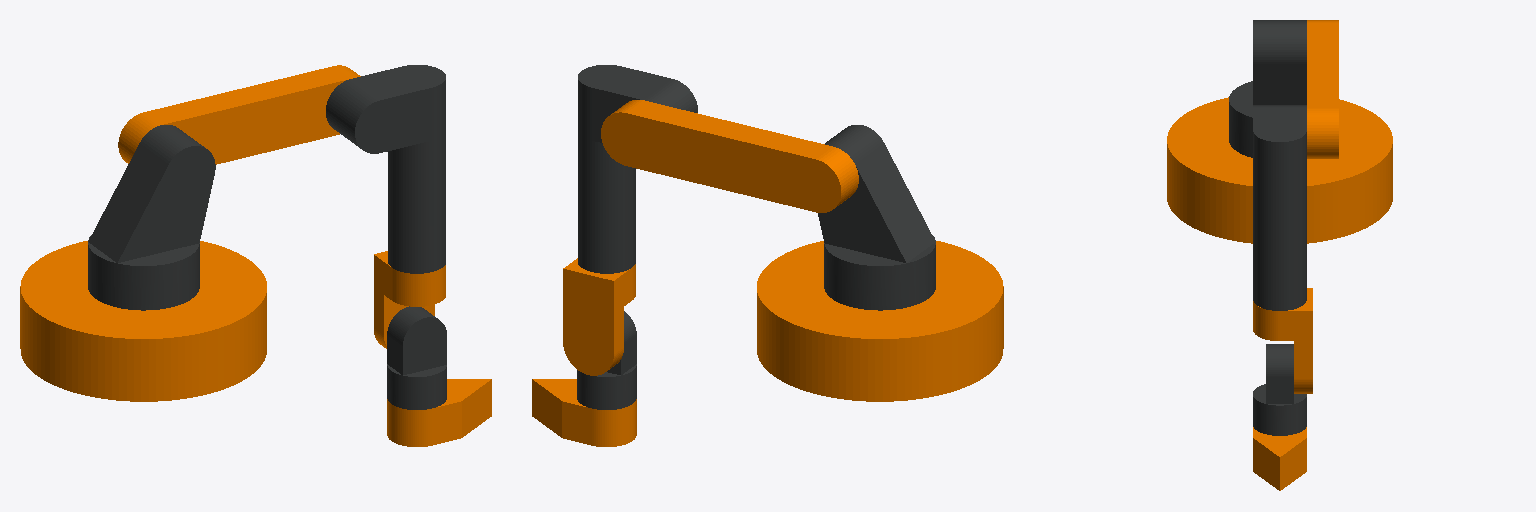
URDF robot description (PS2):
<?xml version='1.0' encoding='utf-8'?>
<robot name="PS2">
    <link name="end_effector">
        <inertial>
            <origin xyz="0.0263 0.0280 0.0000" rpy="0.0 0.0 0.0" />
            <mass value="4.1213032688227855" />
            <inertia ixx="0.002869842955276424" iyy="0.007288193453728553" izz="0.0065724183402899854" ixy="0" iyz="0" ixz="0" />
        </inertial>
        <visual name="end_effector_visual">
            <origin xyz="0.0000 0.0000 0.0000" rpy="0.0 0.0 0.0" />
            <geometry>
                <mesh filename="meshes/end_effector.stl" scale="0.001 0.001 0.001" />
            </geometry>
            <material name="orange">
                <color rgba="0.97 0.53 0 1"/>
            </material>
        </visual>
        <collision name="end_effector_collision">
            <origin xyz="0.0000 0.0000 0.0000" rpy="0.0 0.0 0.0" />
            <geometry>
                <mesh filename="meshes/end_effector.stl" scale="0.001 0.001 0.001" />
            </geometry>
        </collision>
    </link>
    <link name="palm">
        <inertial>
            <origin xyz="0.0000 -0.0215 -0.0416" rpy="0.0 0.0 0.0" />
            <mass value="3.769682308005914" />
            <inertia ixx="0.005826073140490875" iyy="0.0061892408159909245" izz="0.002638882376844731" ixy="0" iyz="0" ixz="0" />
        </inertial>
        <visual name="palm_visual">
            <origin xyz="0.0000 0.0000 0.0000" rpy="0.0 0.0 0.0" />
            <geometry>
                <mesh filename="meshes/palm.stl" scale="0.001 0.001 0.001" />
            </geometry>
            <material name="black">
                <color rgba="0.27 0.28 0.28 1"/>
            </material>
        </visual>
        <collision name="palm_collision">
            <origin xyz="0.0000 0.0000 0.0000" rpy="0.0 0.0 0.0" />
            <geometry>
                <mesh filename="meshes/palm.stl" scale="0.001 0.001 0.001" />
            </geometry>
        </collision>
    </link>
    <link name="wrist">
        <inertial>
            <origin xyz="0.0000 -0.0533 -0.0194" rpy="0.0 0.0 0.0" />
            <mass value="4.216914635753867" />
            <inertia ixx="0.00933698839258024" iyy="0.004389920699302219" izz="0.009032375068409038" ixy="0" iyz="-0.0019503905002748552" ixz="0" />
        </inertial>
        <visual name="wrist_visual">
            <origin xyz="0.0000 0.0000 0.0000" rpy="1.570796 0.0 0.0" />
            <geometry>
                <mesh filename="meshes/wrist.stl" scale="0.001 0.001 0.001" />
            </geometry>
            <material name="orange">
                <color rgba="0.97 0.53 0 1"/>
            </material>
        </visual>
        <collision name="wrist_collision">
            <origin xyz="0.0000 0.0000 0.0000" rpy="1.570796 0.0 0.0" />
            <geometry>
                <mesh filename="meshes/wrist.stl" scale="0.001 0.001 0.001" />
            </geometry>
        </collision>
    </link>
    <link name="forearm">
        <inertial>
            <origin xyz="0.0619 -0.0400 -0.0723" rpy="0.0 0.0 0.0" />
            <mass value="15.085694501784571" />
            <inertia ixx="0.10923198841575421" iyy="0.12496690875477467" izz="0.029316248246891163" ixy="0" iyz="0" ixz="0.021372549280382236" />
        </inertial>
        <visual name="forearm_visual">
            <origin xyz="0.0000 0.0000 0.0000" rpy="0.0 0.0 0.0" />
            <geometry>
                <mesh filename="meshes/forearm.stl" scale="0.001 0.001 0.001" />
            </geometry>
            <material name="black">
                <color rgba="0.27 0.28 0.28 1"/>
            </material>
        </visual>
        <collision name="forearm_collision">
            <origin xyz="0.0000 0.0000 0.0000" rpy="0.0 0.0 0.0" />
            <geometry>
                <mesh filename="meshes/forearm.stl" scale="0.001 0.001 0.001" />
            </geometry>
        </collision>
    </link>
    <link name="upper_arm">
        <inertial>
            <origin xyz="0.1500 0 0.0240" rpy="0.0 0.0 0.0" />
            <mass value="10.937203378996566" />
            <inertia ixx="0.007680584400375889" iyy="0.12294270042778543" izz="0.12642339873062647" ixy="0" iyz="0" ixz="0" />
        </inertial>
        <visual name="upper_arm_visual">
            <origin xyz="0.0000 0.0000 0.0000" rpy="0.0 0.0 0.0" />
            <geometry>
                <mesh filename="meshes/upper_arm.stl" scale="0.001 0.001 0.001" />
            </geometry>
            <material name="orange">
                <color rgba="0.97 0.53 0 1"/>
            </material>
        </visual>
        <collision name="upper_arm_collision">
            <origin xyz="0.0000 0.0000 0.0000" rpy="0.0 0.0 0.0" />
            <geometry>
                <mesh filename="meshes/upper_arm.stl" scale="0.001 0.001 0.001" />
            </geometry>
        </collision>
    </link>
    <link name="shoulder">
        <inertial>
            <origin xyz="0.0131 0.0000 0.0811" rpy="0.0 0.0 0.0" />
            <mass value="18.72591722733713" />
            <inertia ixx="0.08233275793126849" iyy="0.09166601183757372" izz="0.04706002488913857" ixy="0" iyz="0" ixz="-0.01830818606448982" />
        </inertial>
        <visual name="shoulder_visual">
            <origin xyz="0.0000 0.0000 0.0000" rpy="0.0 0.0 0.0" />
            <geometry>
                <mesh filename="meshes/shoulder.stl" scale="0.001 0.001 0.001" />
            </geometry>
            <material name="black">
                <color rgba="0.27 0.28 0.28 1"/>
            </material>
        </visual>
        <collision name="shoulder_collision">
            <origin xyz="0.0000 0.0000 0.0000" rpy="0.0 0.0 0.0" />
            <geometry>
                <mesh filename="meshes/shoulder.stl" scale="0.001 0.001 0.001" />
            </geometry>
        </collision>
    </link>
    <link name="base_link">
        <inertial>
            <origin xyz="0.0000 0.0000 0.0474" rpy="0.0 0.0 0.0" />
            <mass value="66.64314917240618" />
            <inertia ixx="0.5252296073402226" iyy="0.525229607340243" izz="0.9508489214035446" ixy="7.310882210731554e-16" iyz="1.5312871255446406e-15" ixz="7.982569513842511e-16" />
        </inertial>
        <visual name="base_link_visual">
            <origin xyz="0.0000 0.0000 0.0000" rpy="0.0 0.0 0.0" />
            <geometry>
                <mesh filename="meshes/base_link.stl" scale="0.001 0.001 0.001" />
            </geometry>
            <material name="orange">
                <color rgba="0.97 0.53 0 1"/>
            </material>
        </visual>
        <collision name="base_link_collision">
            <origin xyz="0.0000 0.0000 0.0000" rpy="0.0 0.0 0.0" />
            <geometry>
                <mesh filename="meshes/base_link.stl" scale="0.001 0.001 0.001" />
            </geometry>
        </collision>
    </link>
    <joint name="base_link_Revolute-1" type="revolute">
        <origin xyz="0.0000 0.0000 0.2710" rpy="0.0 0.0 0.0" />
        <parent link="base_link" />
        <child link="shoulder" />
        <axis xyz="0 0 1" />
        <limit lower="-3.141593" upper="3.141593" effort="1000000" velocity="0.1" />
    </joint>
    <joint name="shoulder_Revolute-2" type="revolute">
        <origin xyz="0.0504 0.0000 0.0000" rpy="-1.570796 0.0 0.0" />
        <parent link="shoulder" />
        <child link="upper_arm" />
        <axis xyz="0 0 1"/>
        <limit lower="-3.141593" upper="0.349066" effort="1000000" velocity="0.1" />
    </joint>
    <joint name="upper_arm_Revolute-3" type="revolute">
        <origin xyz="0.3000 0.0000 0.0000" rpy="0.0 0.0 0.0" />
        <parent link="upper_arm" />
        <child link="forearm" />
        <axis xyz="0 0 1" />
        <limit lower="-1.570796" upper="1.570796" effort="1000000" velocity="0.1" />
    </joint>
    <joint name="forearm_Revolute-4" type="revolute">
        <origin xyz="0.0815 0.3500 0.0000" rpy="-1.570796 0.0 0.0" />
        <parent link="forearm" />
        <child link="wrist" />
        <axis xyz="0 0 1" />
        <limit lower="-3.141593" upper="3.141593" effort="1000000" velocity="0.1" />
    </joint>
    <joint name="wrist_Revolute-5" type="revolute">
        <origin xyz="0.0000 0.0000 0.0000" rpy="1.570796 0.0 0.0" />
        <parent link="wrist" />
        <child link="palm" />
        <axis xyz="0 0 1" />
        <limit lower="-1.570796" upper="1.570796" effort="1000000" velocity="0.1" />
    </joint>
    <joint name="palm_Revolute-6" type="revolute">
        <origin xyz="0.0000 0.150 0.0000" rpy="-1.570796 0.0 0.0" />
        <parent link="palm" />
        <child link="end_effector" />
        <axis xyz="0 0 1" />
        <limit lower="-3.141593" upper="3.141593" effort="1000000" velocity="0.5" />
    </joint>
</robot>

--- Facts derived from the render (not from the file) ---
3 views of the same robot in one strip: view 1: azimuth 30°, elevation 25°; view 2: azimuth 150°, elevation 25°; view 3: azimuth 270°, elevation 25° (orthographic).
Robot: PS2 — 7 links, 6 joints (6 revolute); root link base_link; default pose: every joint at zero.
Visible links, largest first — view 1: base_link, shoulder, forearm, upper_arm, palm, end_effector, wrist; view 2: base_link, upper_arm, shoulder, forearm, wrist, end_effector, palm; view 3: base_link, forearm, shoulder, upper_arm, palm, wrist, end_effector.
Boxes of the visible links, bbox=[...] form: base_link: bbox=[20, 241, 266, 401]; shoulder: bbox=[88, 125, 215, 310]; forearm: bbox=[326, 65, 445, 273]; upper_arm: bbox=[118, 65, 360, 164]; palm: bbox=[387, 306, 446, 409]; end_effector: bbox=[387, 379, 491, 446]; wrist: bbox=[374, 251, 445, 348]; base_link: bbox=[757, 241, 1003, 401]; upper_arm: bbox=[601, 100, 858, 212]; shoulder: bbox=[818, 125, 935, 310]; forearm: bbox=[578, 65, 697, 273]; wrist: bbox=[563, 258, 635, 375]; end_effector: bbox=[532, 379, 636, 446]; palm: bbox=[577, 311, 636, 409]; base_link: bbox=[1167, 97, 1392, 243]; forearm: bbox=[1253, 105, 1306, 310]; shoulder: bbox=[1229, 20, 1306, 157]; upper_arm: bbox=[1307, 20, 1338, 158]; palm: bbox=[1253, 344, 1306, 435]; wrist: bbox=[1253, 288, 1312, 393]; end_effector: bbox=[1253, 427, 1306, 490].
Bounding box of the posed robot: 0.7183 × 0.3378 × 0.54 m (x, y, z).
7 mesh visuals loaded from 7 distinct referenced files (7 binary STL).